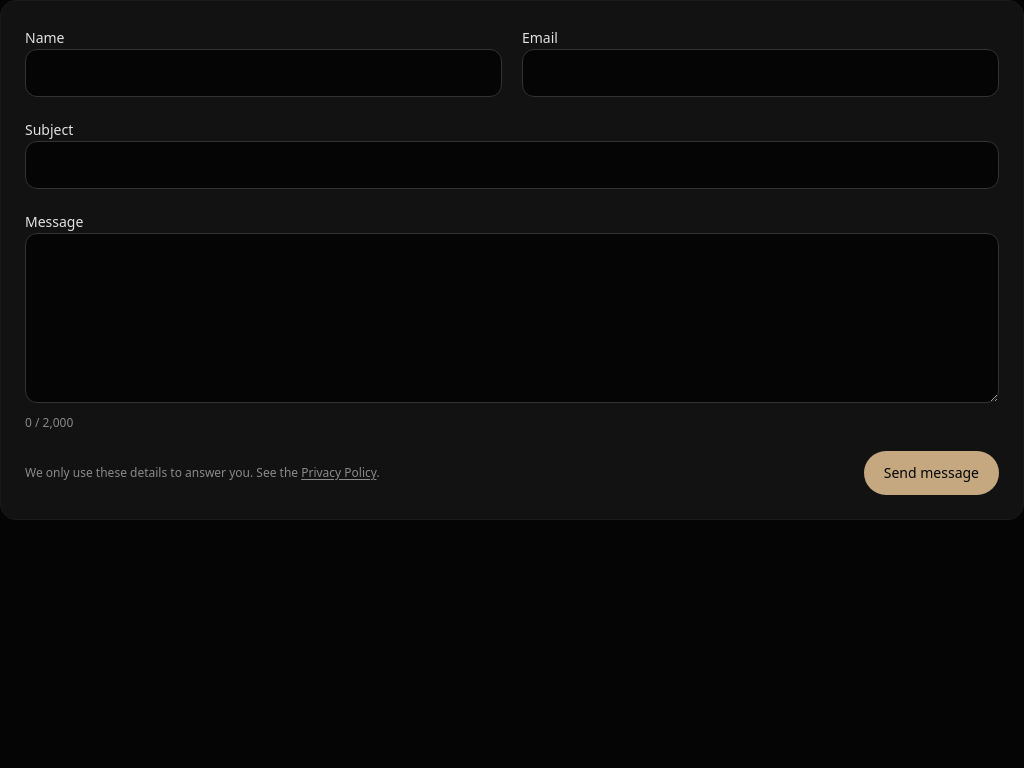
Test: ContactForm › keeps the message and explains when sending fails
Type "Ana" into the field labelled "Name" at (264, 73), box 25,49 -> 502,97
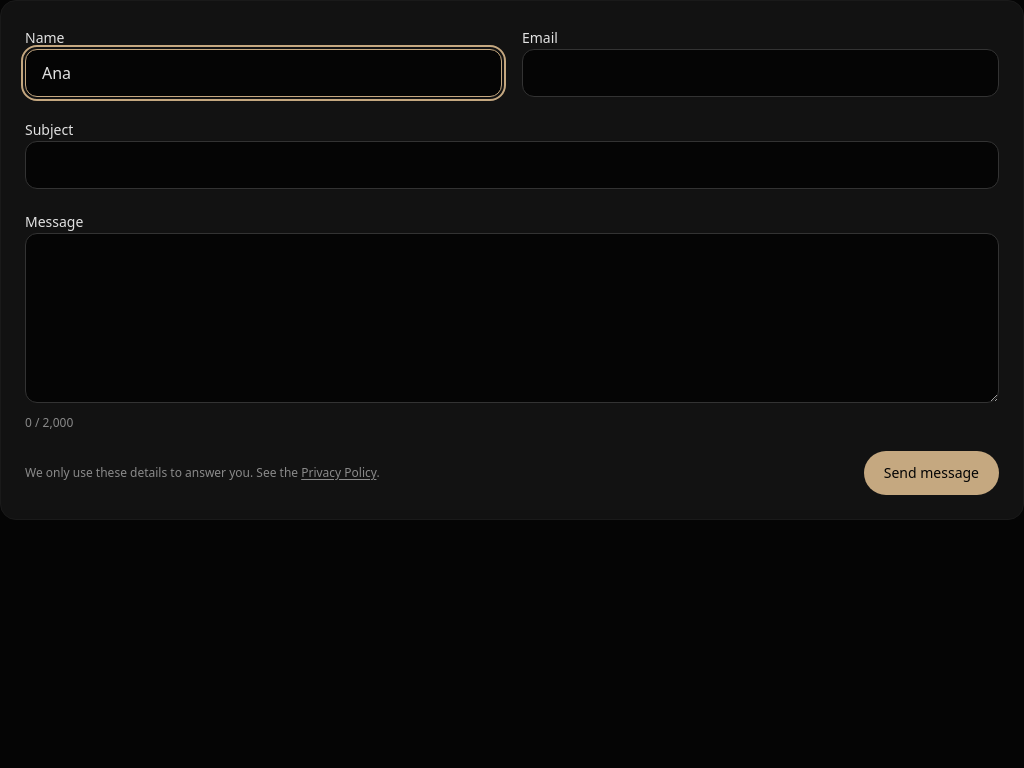
Type "ana@example.com" into the field labelled "Email" at (760, 73), box 522,49 -> 999,97
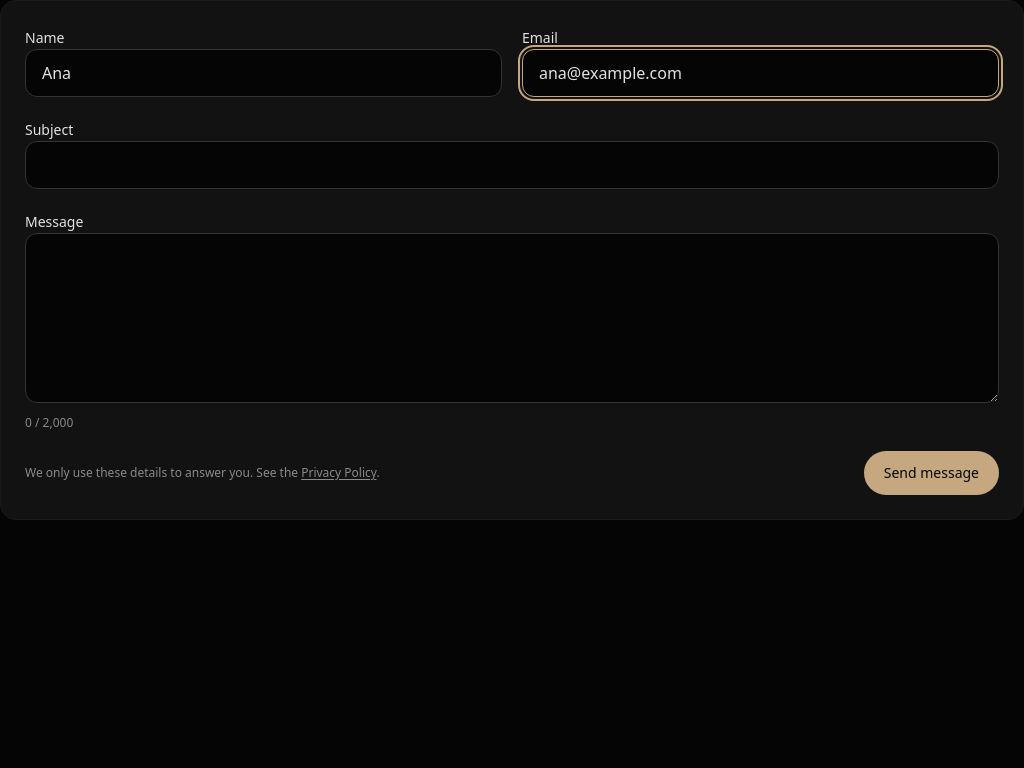
Type "Idea" into the field labelled "Subject" at (512, 165), box 25,141 -> 999,189
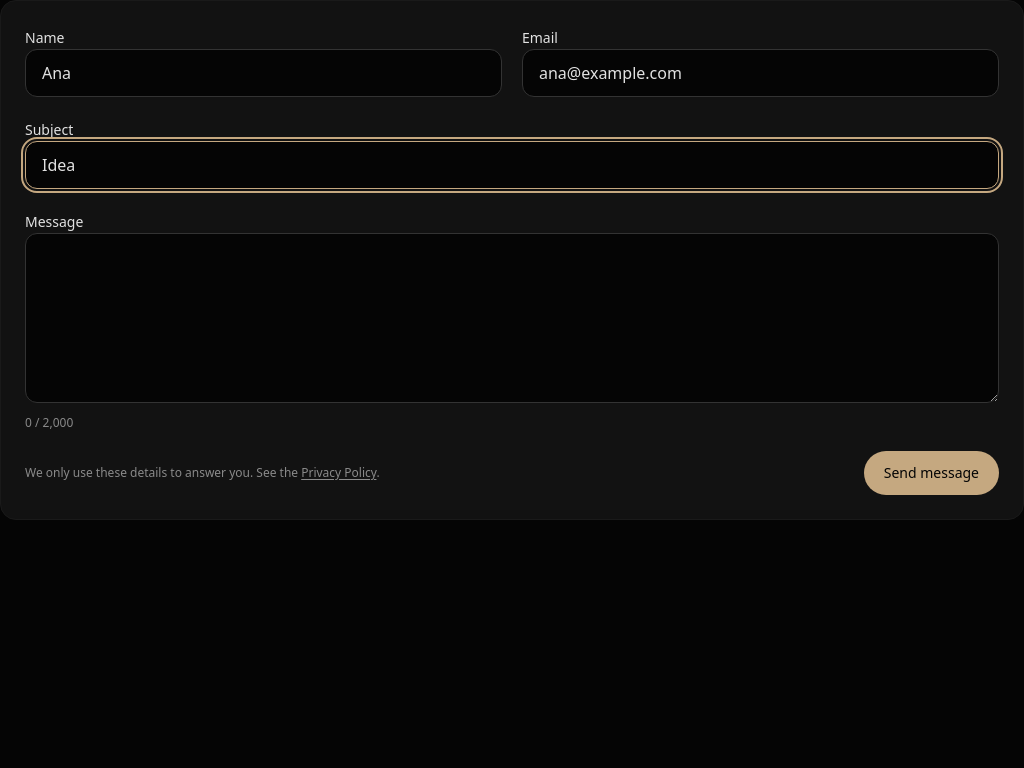
Type "A quiz about phrasal verbs, please!" into the text box labelled "Message" at (512, 318), box 25,233 -> 999,403
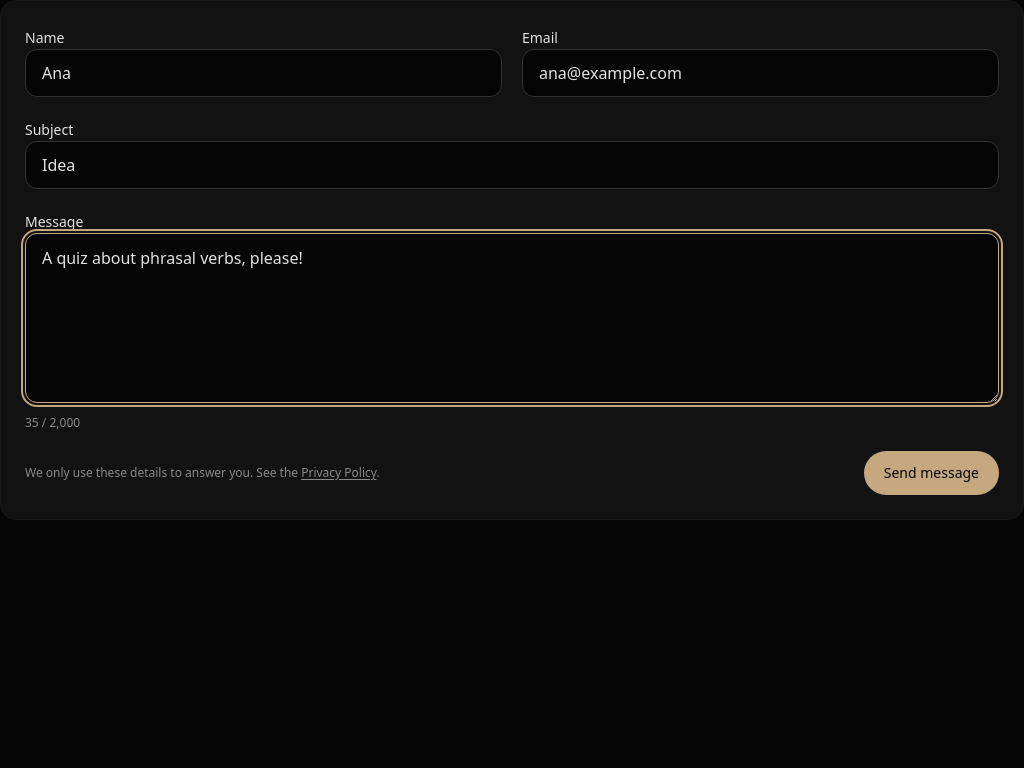
Click the button "Send message" at (931, 473), box 864,451 -> 999,495
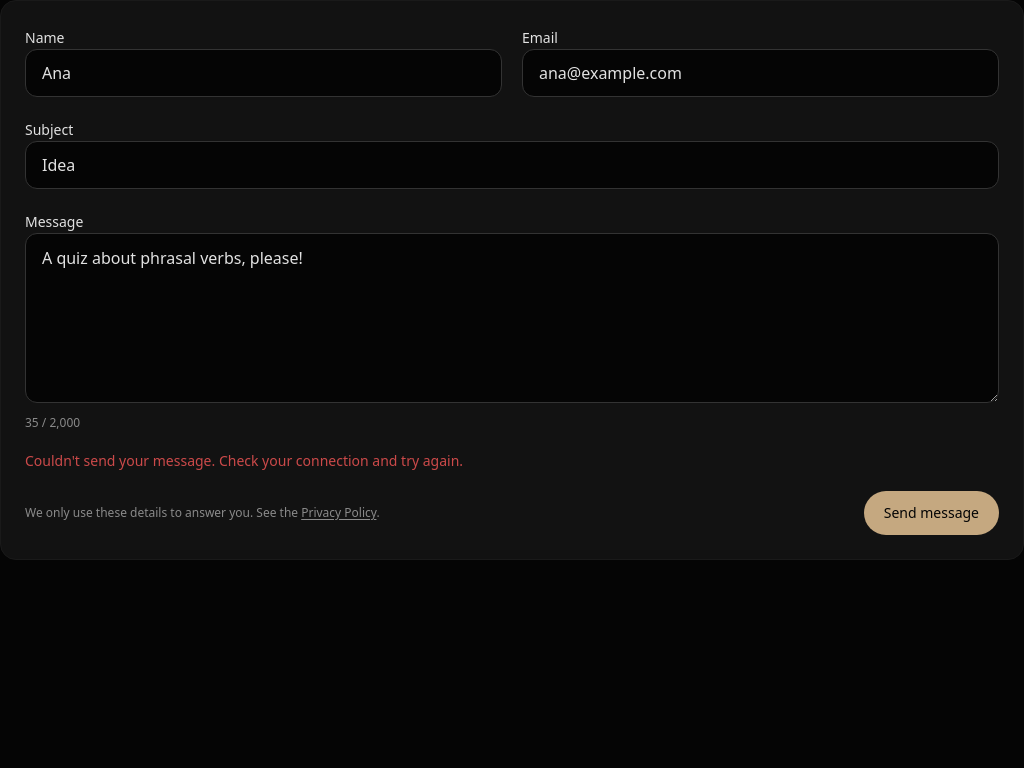
Expected: the message shows "Couldn't send your message", 25,451 -> 463,470
